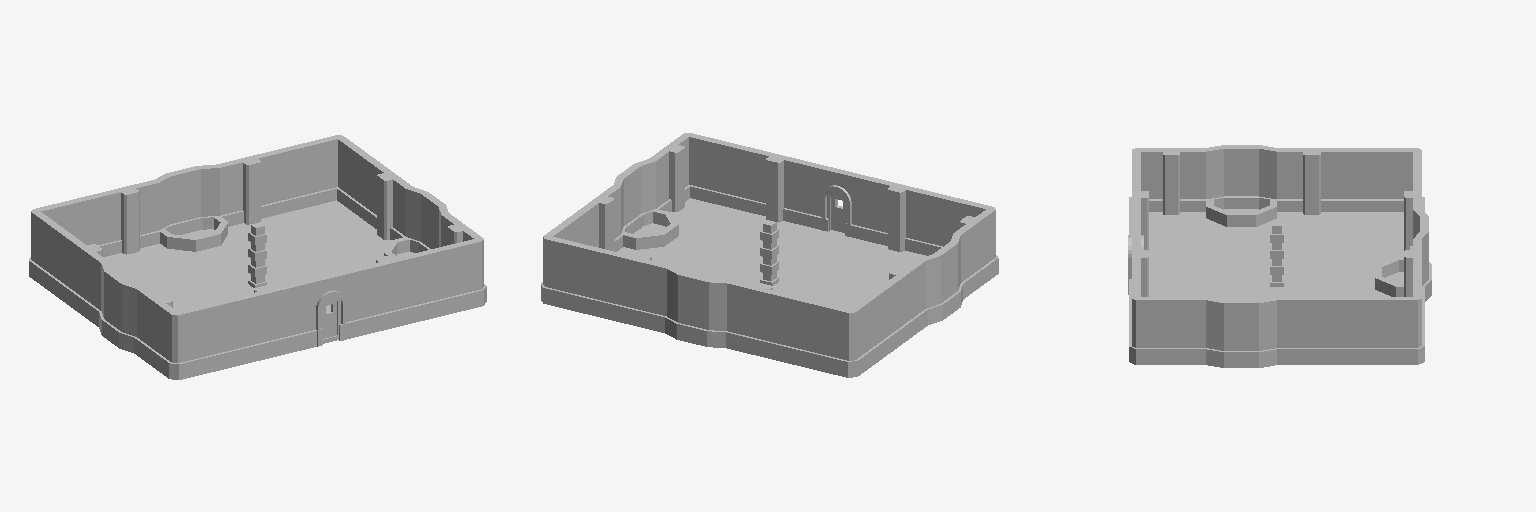
Rendered from room_sm_03.obj.
3 renders of one model, left to right at view 1: azimuth 30°, elevation 25°; view 2: azimuth 150°, elevation 25°; view 3: azimuth 270°, elevation 25°, orthographic.
Parts seen in each view (by area): view 1: floor_01_80, wall_01_40, wall_01_39, wall_02_38, wall_02_37, door_01_23, wall_02_90, wall_02_89, floor_01_81, wall_03_84, wall_01_46, wall_02_86 (+12 smaller); view 2: wall_01_45, wall_01_46, wall_02_90, wall_02_89, wall_03_84, wall_02_38, wall_02_37, door_01_23, wall_01_39, floor_04_2, floor_05_77, floor_04_75 (+15 smaller); view 3: floor_01_81, wall_03_82, wall_02_88, wall_02_85, wall_01_91, wall_02_87, wall_03_83, wall_02_86, wall_01_92, floor_04_2, floor_04_76, floor_05_79 (+12 smaller).
Boxes of the visible parts, x1,y1,x2,y2 form: floor_01_80: [228, 200, 390, 274]; wall_01_40: [169, 298, 240, 379]; wall_01_39: [417, 238, 486, 320]; wall_02_38: [234, 283, 301, 364]; wall_02_37: [357, 253, 423, 335]; door_01_23: [296, 268, 361, 350]; wall_02_90: [94, 180, 160, 256]; wall_02_89: [216, 150, 281, 226]; floor_01_81: [104, 244, 227, 306]; wall_03_84: [153, 165, 221, 234]; wall_01_46: [275, 135, 341, 213]; wall_02_86: [134, 287, 179, 379]; wall_01_45: [787, 295, 857, 377]; wall_01_46: [541, 236, 609, 317]; wall_02_90: [726, 280, 792, 362]; wall_02_89: [604, 251, 669, 332]; wall_03_84: [665, 265, 729, 347]; wall_02_38: [867, 177, 934, 255]; wall_02_37: [744, 148, 810, 225]; door_01_23: [805, 162, 873, 240]; wall_01_39: [685, 133, 751, 210]; floor_04_2: [744, 225, 863, 290]; floor_05_77: [622, 223, 762, 275]; floor_04_75: [671, 198, 804, 247]; floor_01_81: [1272, 212, 1403, 266]; wall_03_82: [1202, 297, 1280, 367]; wall_02_88: [1277, 293, 1350, 364]; wall_02_85: [1129, 293, 1207, 364]; wall_01_91: [1345, 297, 1424, 364]; wall_02_87: [1273, 148, 1350, 214]; wall_03_83: [1203, 145, 1280, 209]; wall_02_86: [1129, 148, 1208, 214]; wall_01_92: [1346, 148, 1422, 211]; floor_04_2: [1149, 267, 1280, 299]; floor_04_76: [1149, 212, 1210, 270]; floor_05_79: [1280, 267, 1403, 296].
Size of the model in its own units: 5.41 by 1 by 4.32.